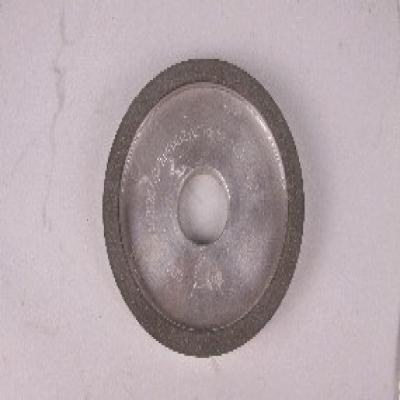technique: (105, 61, 303, 360)
